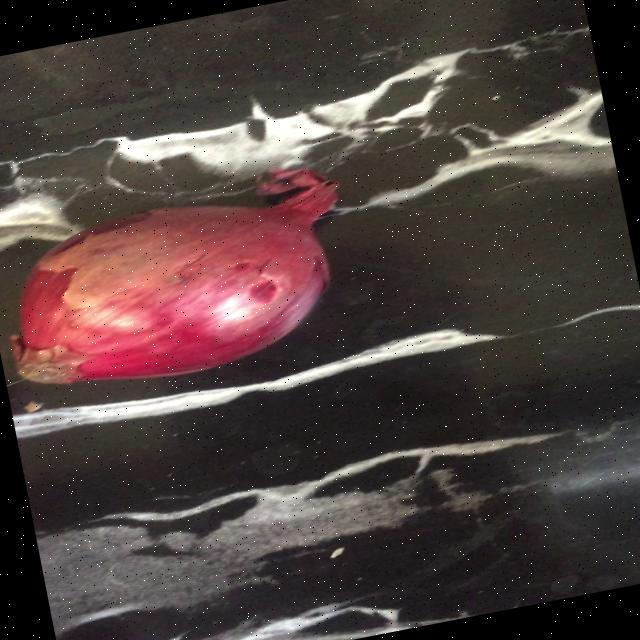Onion: (12, 169, 337, 384)
